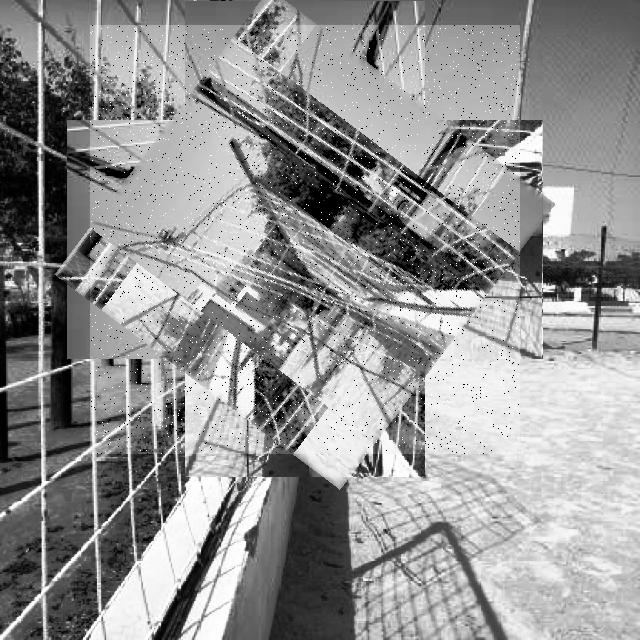anomaly-fence: (90, 25, 520, 454)
